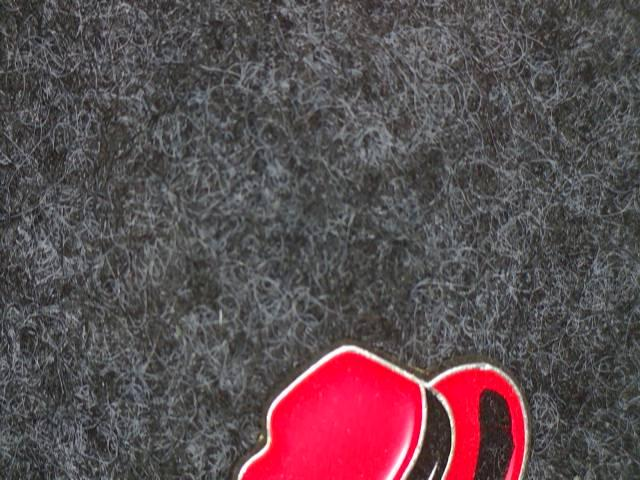Red-Hat: (194, 319, 563, 480)
Scratch: (454, 379, 540, 480)
